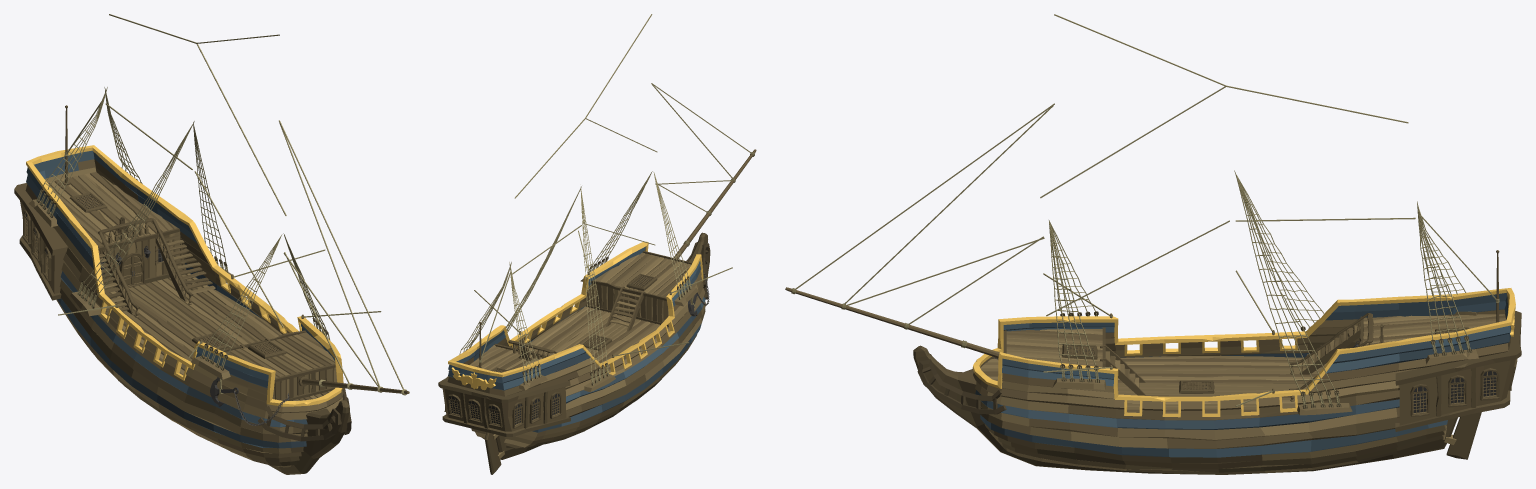
Rendered from LargeShip_1.fbx.
3 renders of one model, left to right at view 1: azimuth 30°, elevation 25°; view 2: azimuth 150°, elevation 25°; view 3: azimuth 270°, elevation 25°, orthographic. The views are drawn at different scales.
Visible parts, largest first — view 1: LargeShip_1; view 2: LargeShip_1; view 3: LargeShip_1.
Part boxes in pixels (left/top/right/bottom): LargeShip_1: left=14, top=14, right=409, bottom=474; LargeShip_1: left=438, top=14, right=756, bottom=474; LargeShip_1: left=785, top=14, right=1521, bottom=474.
Bounding box in the file's own units: 2080 × 3285 × 4766.
